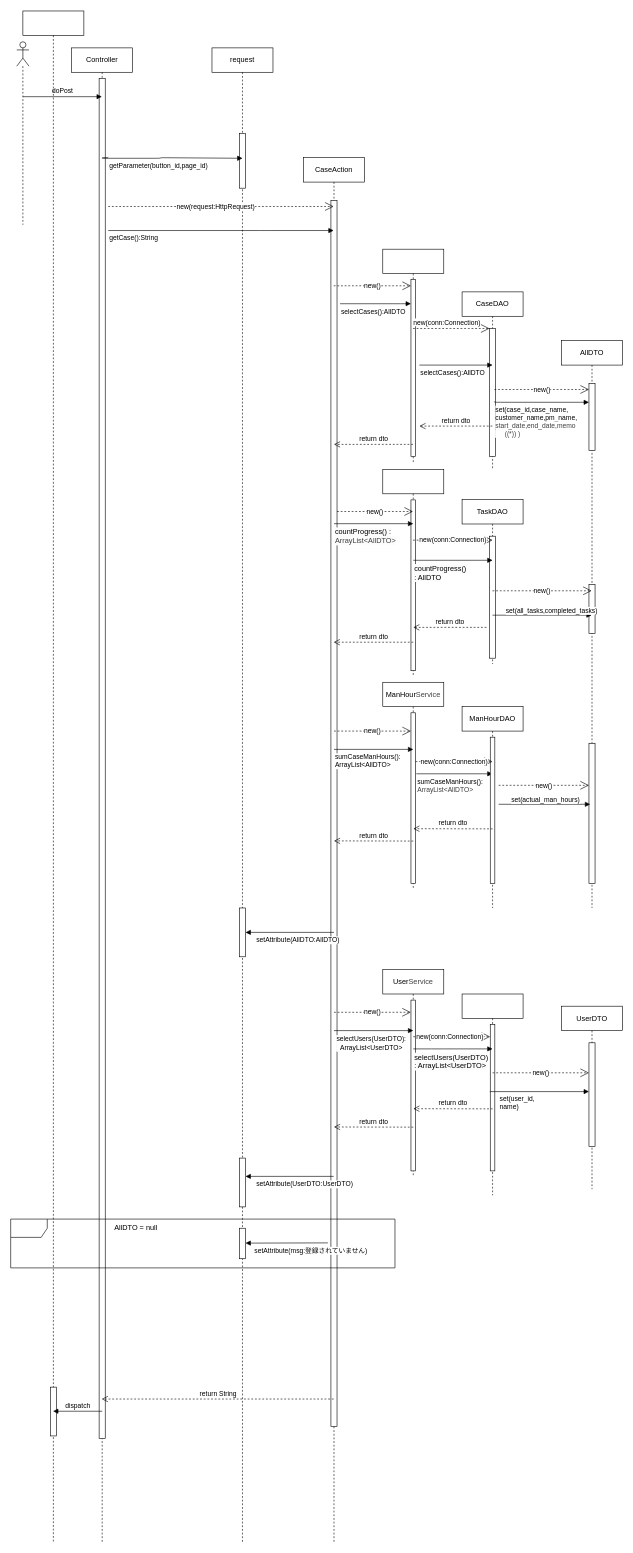
This 633x1553 diagram has some shape labels left out. The box of each missing label's shape, as (x1, y1, x2, y2) in pixels:
alt: (10, 1218, 395, 1268)
Case Service: (382, 249, 444, 463)
case.jsp: (22, 10, 84, 1542)
Task Service: (382, 469, 444, 676)
UserDAO: (461, 993, 523, 1195)
